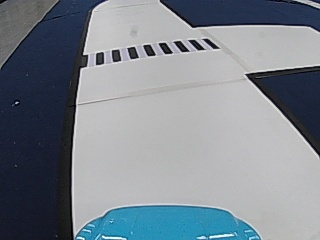CrossWalk: (83, 37, 217, 65)
